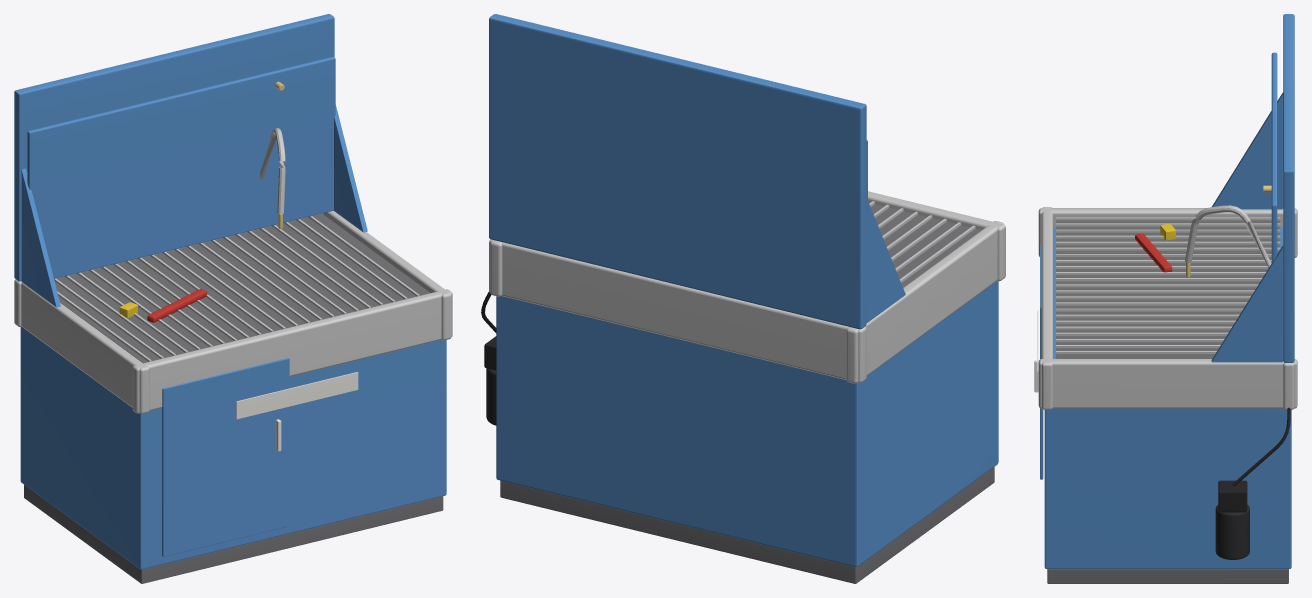
File: washer_standard.glb
The picture shows the model from 3 angles, left to right: view 1: azimuth 30°, elevation 25°; view 2: azimuth 150°, elevation 25°; view 3: azimuth 270°, elevation 25°; orthographic projection. The views are drawn at different scales.
Visible parts, largest first — view 1: SM_washer_standard; view 2: SM_washer_standard; view 3: SM_washer_standard.
Boxes of the visible parts, left/top/right/bottom form: SM_washer_standard: left=14, top=14, right=452, bottom=583; SM_washer_standard: left=481, top=14, right=1005, bottom=583; SM_washer_standard: left=1034, top=14, right=1297, bottom=583.
Bounding box in the file's own units: 1.42 × 1.6 × 0.915.
